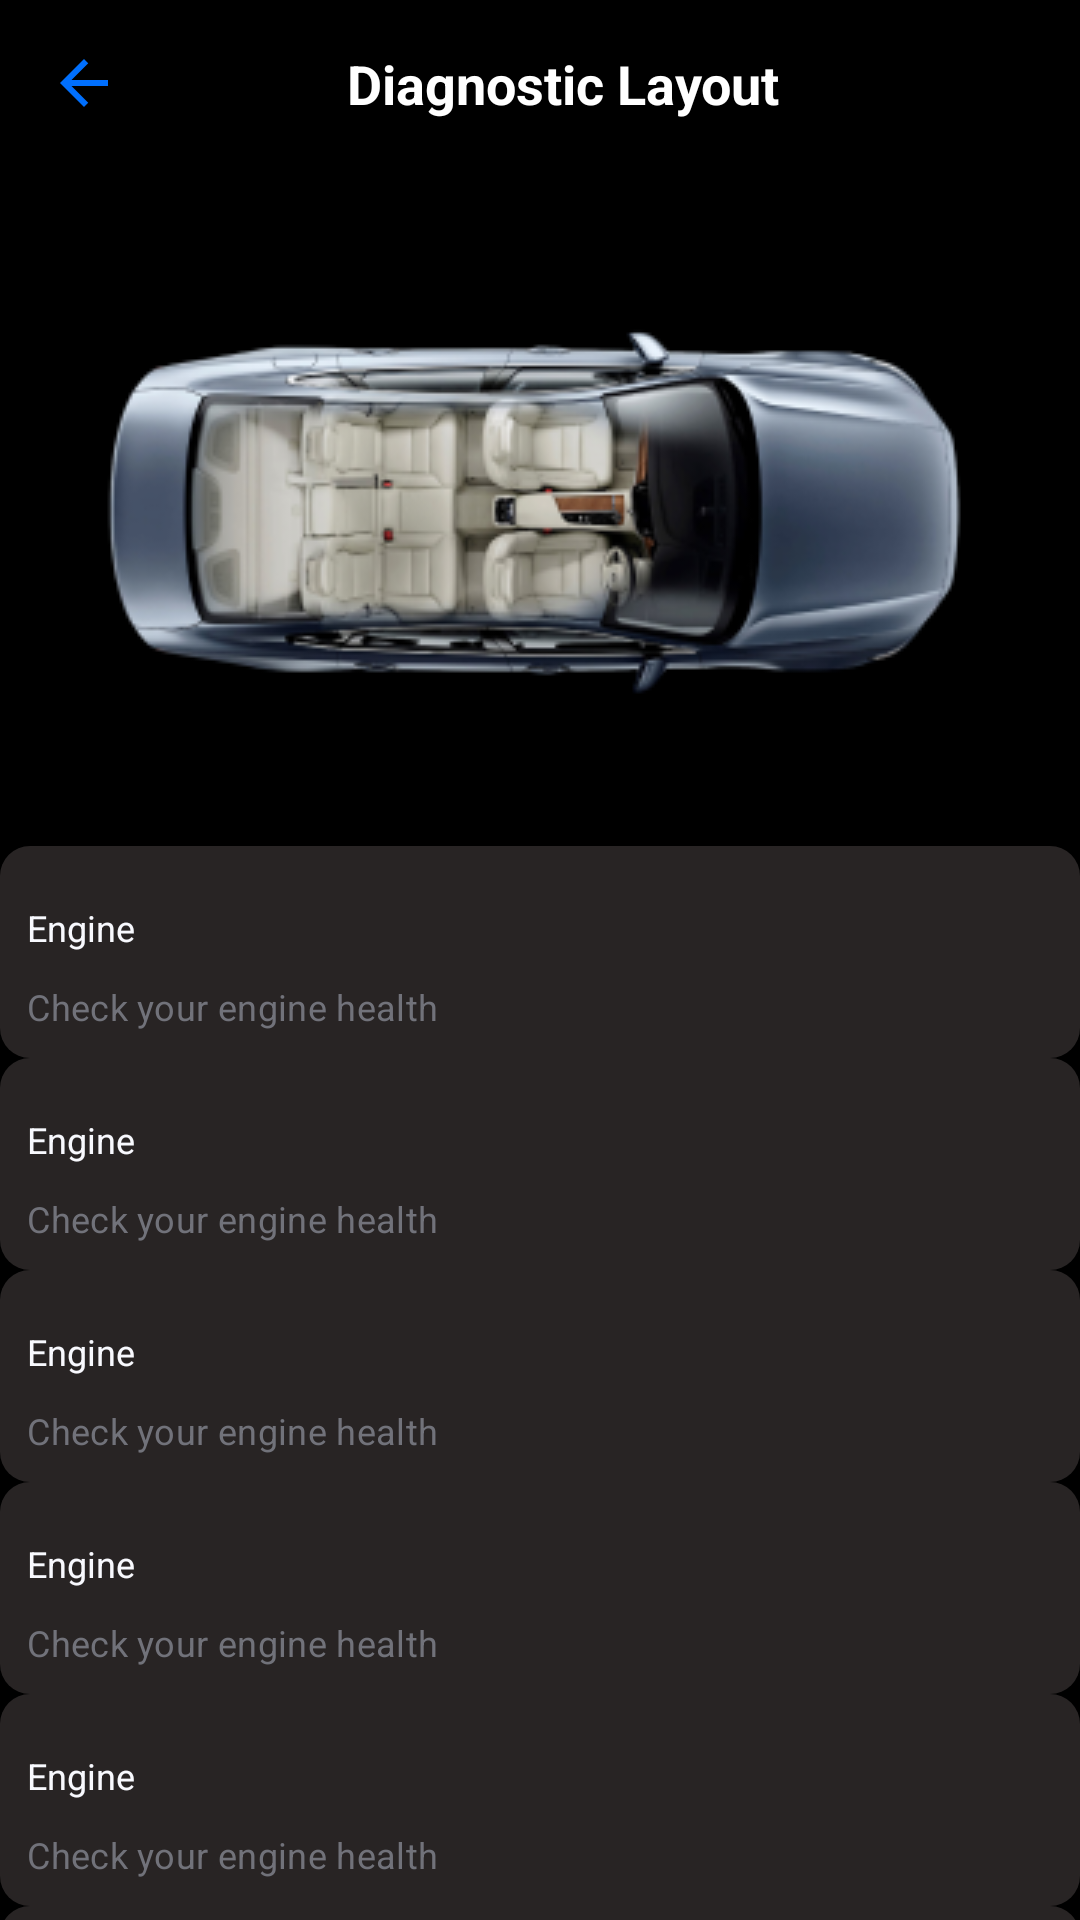

Locate icon controls on the screen. Image size 1080 x 1920, boxes as (x1, y1, x2, y2).
arrow back: (60, 59, 108, 107)
